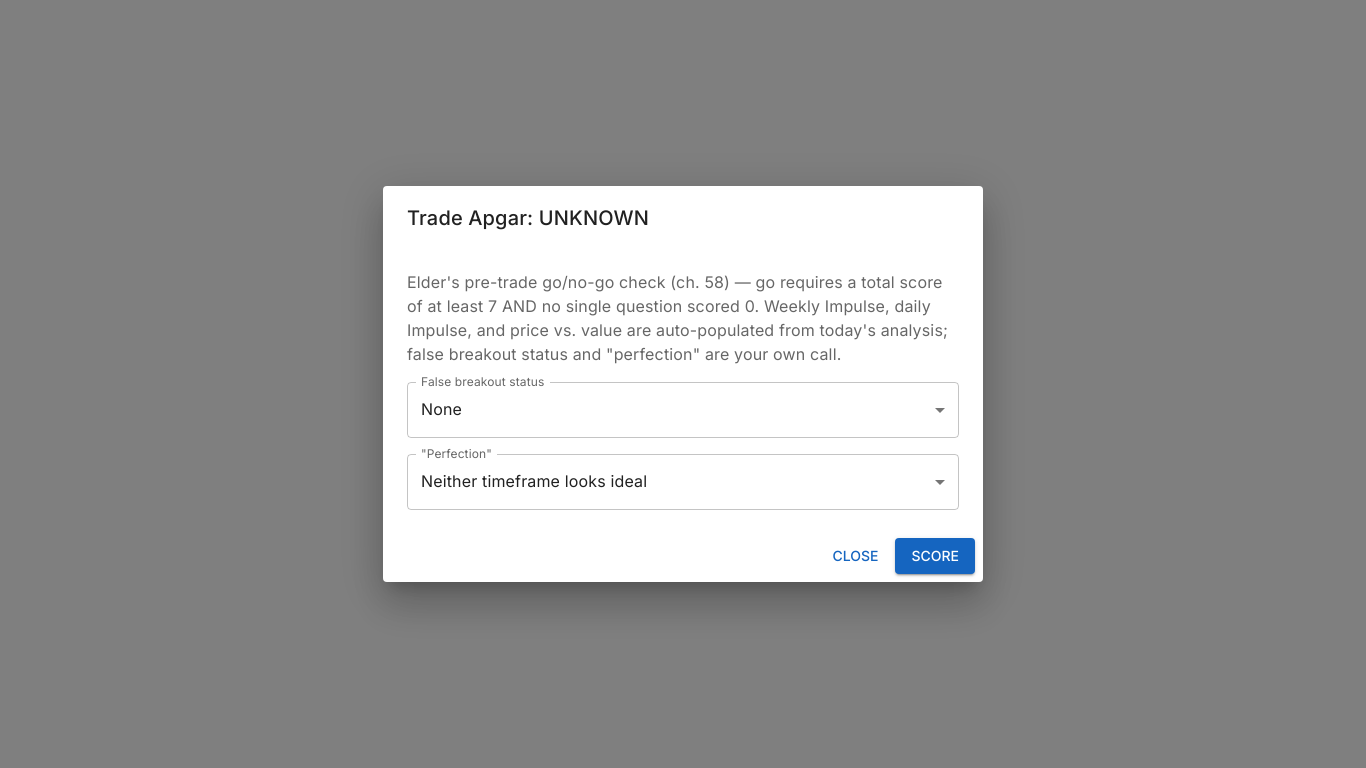
Test: TradeApgarDialog › shows an ApiError via common/ErrorState for an unknown ticker
The image size is (1366, 768).
Click the button "Score".
click(935, 556)  # box top-left (895, 538), bottom-right (975, 574)
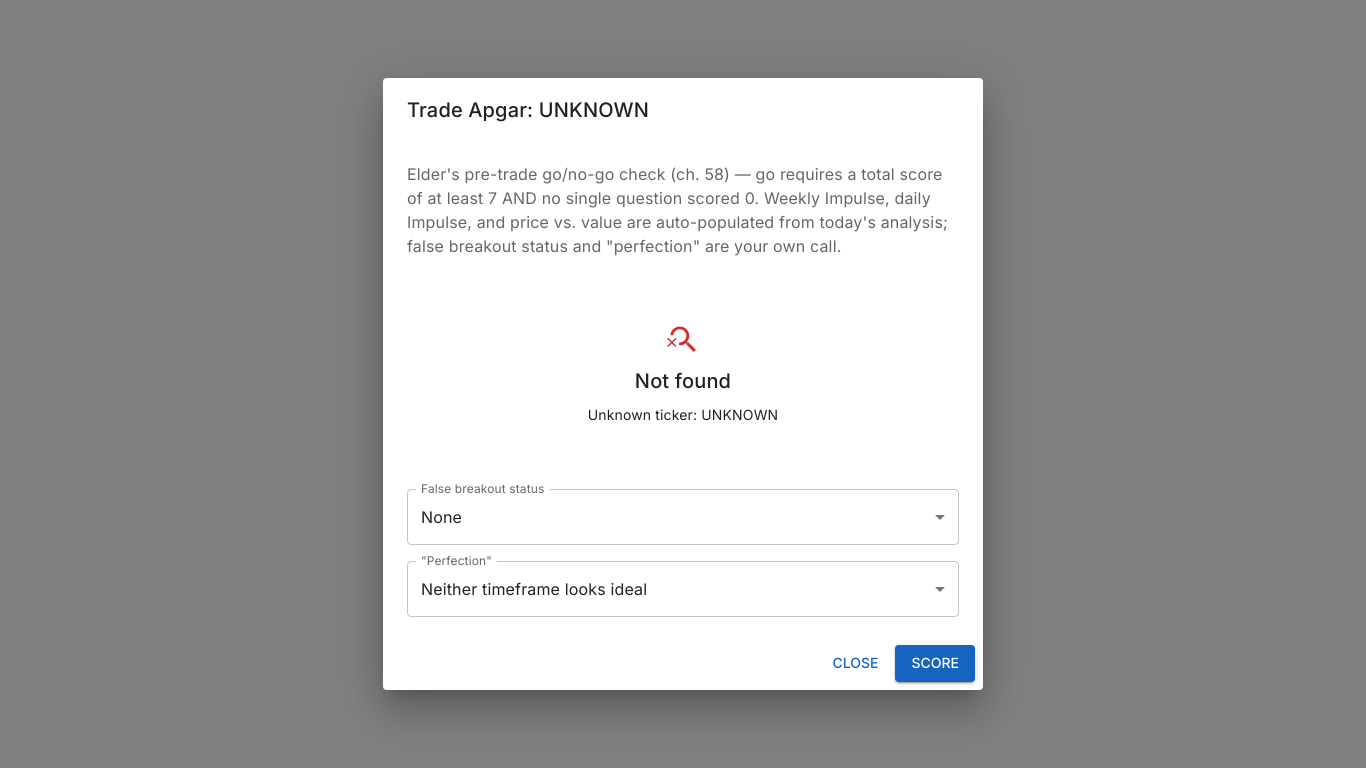
Expected: the message "Not found Unknown ticker: UNKNOWN" is shown, top-left (588, 322), bottom-right (778, 423)
